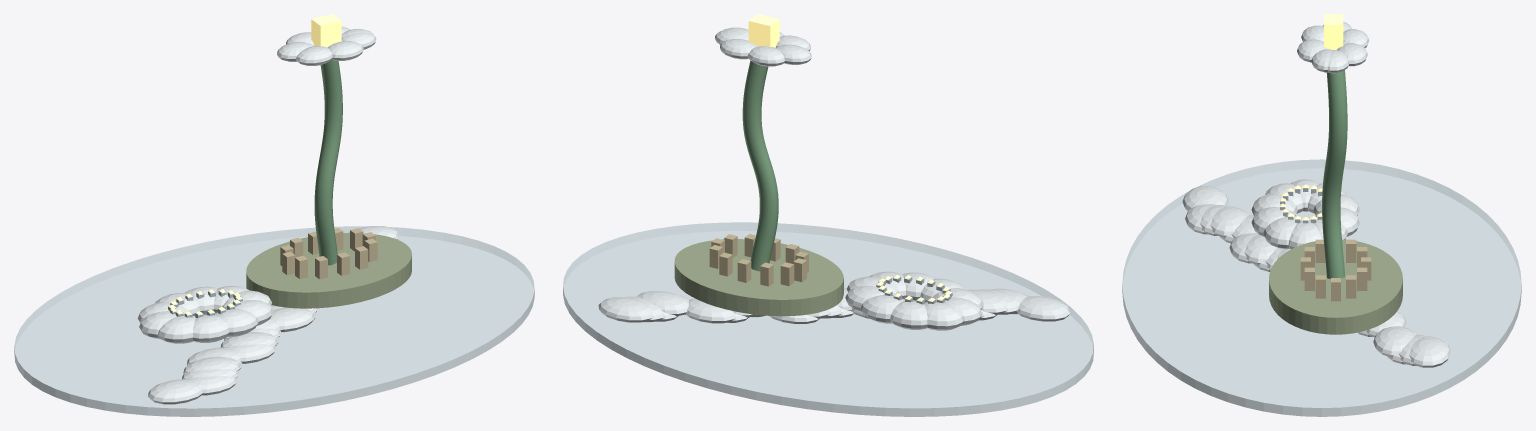
The model's file is skypiea-sky-system.glb.
3 views of the same model, side by side, from view 1: azimuth 30°, elevation 25°; view 2: azimuth 150°, elevation 25°; view 3: azimuth 270°, elevation 25° (orthographic). The views are drawn at different scales.
Visible parts, largest first — view 1: White-White Sea, Upper Yard solid land, Giant Jack, Cloud sea puff 01, Golden Belfry, Angel Island cloud 08, Angel Island cloud 07, Cloud sea puff 24, Angel Island cloud 09, Cloud sea puff 23, Cloud sea puff 22, Cloud sea puff 12 (+5 smaller); view 2: White-White Sea, Upper Yard solid land, Giant Jack, Cloud sea puff 06, Cloud sea puff 01, Golden Belfry, Angel Island cloud 04, Angel Island cloud 05, Cloud sea puff 05, Cloud sea puff 21, Angel Island cloud 03, Belfry cloud 3 (+5 smaller); view 3: White-White Sea, Upper Yard solid land, Giant Jack, Cloud sea puff 06, Cloud sea puff 21, Cloud sea puff 12, Cloud sea puff 01, Angel Island cloud 10, Golden Belfry, Cloud sea puff 18, Angel Island cloud 01, Angel Island cloud 09 (+10 smaller).
Boxes of the visible parts, x1,y1,x2,y2 form: White-White Sea: (14,226,534,416); Upper Yard solid land: (246,233,411,308); Giant Jack: (314,60,342,265); Cloud sea puff 01: (148,379,202,404); Golden Belfry: (311,14,341,47); Angel Island cloud 08: (193,314,229,342); Angel Island cloud 07: (158,315,195,343); Cloud sea puff 24: (270,307,314,332); Angel Island cloud 09: (215,308,258,336); Cloud sea puff 23: (226,344,275,363); Cloud sea puff 22: (187,376,236,395); Cloud sea puff 12: (183,356,240,373); White-White Sea: (563,222,1093,416); Upper Yard solid land: (674,239,843,316); Giant Jack: (742,60,778,271); Cloud sea puff 06: (598,297,652,322); Cloud sea puff 01: (1017,296,1070,321); Golden Belfry: (748,14,779,47); Angel Island cloud 04: (890,301,927,329); Angel Island cloud 05: (924,301,963,330); Cloud sea puff 05: (685,298,735,323); Cloud sea puff 21: (636,291,689,316); Angel Island cloud 03: (860,295,904,323); Belfry cloud 3: (747,46,784,66); White-White Sea: (1122,159,1521,416); Upper Yard solid land: (1269,239,1402,334); Giant Jack: (1322,70,1347,278); Cloud sea puff 06: (1409,336,1450,367); Cloud sea puff 21: (1373,326,1416,356); Cloud sea puff 12: (1210,206,1249,236); Cloud sea puff 01: (1182,186,1228,211); Angel Island cloud 10: (1263,217,1301,249); Golden Belfry: (1324,14,1343,49); Cloud sea puff 18: (1244,234,1277,264); Angel Island cloud 01: (1288,220,1321,249); Angel Island cloud 09: (1251,207,1295,236).
Bounding box in the file's own units: 25.3 × 14.36 × 17.16.
